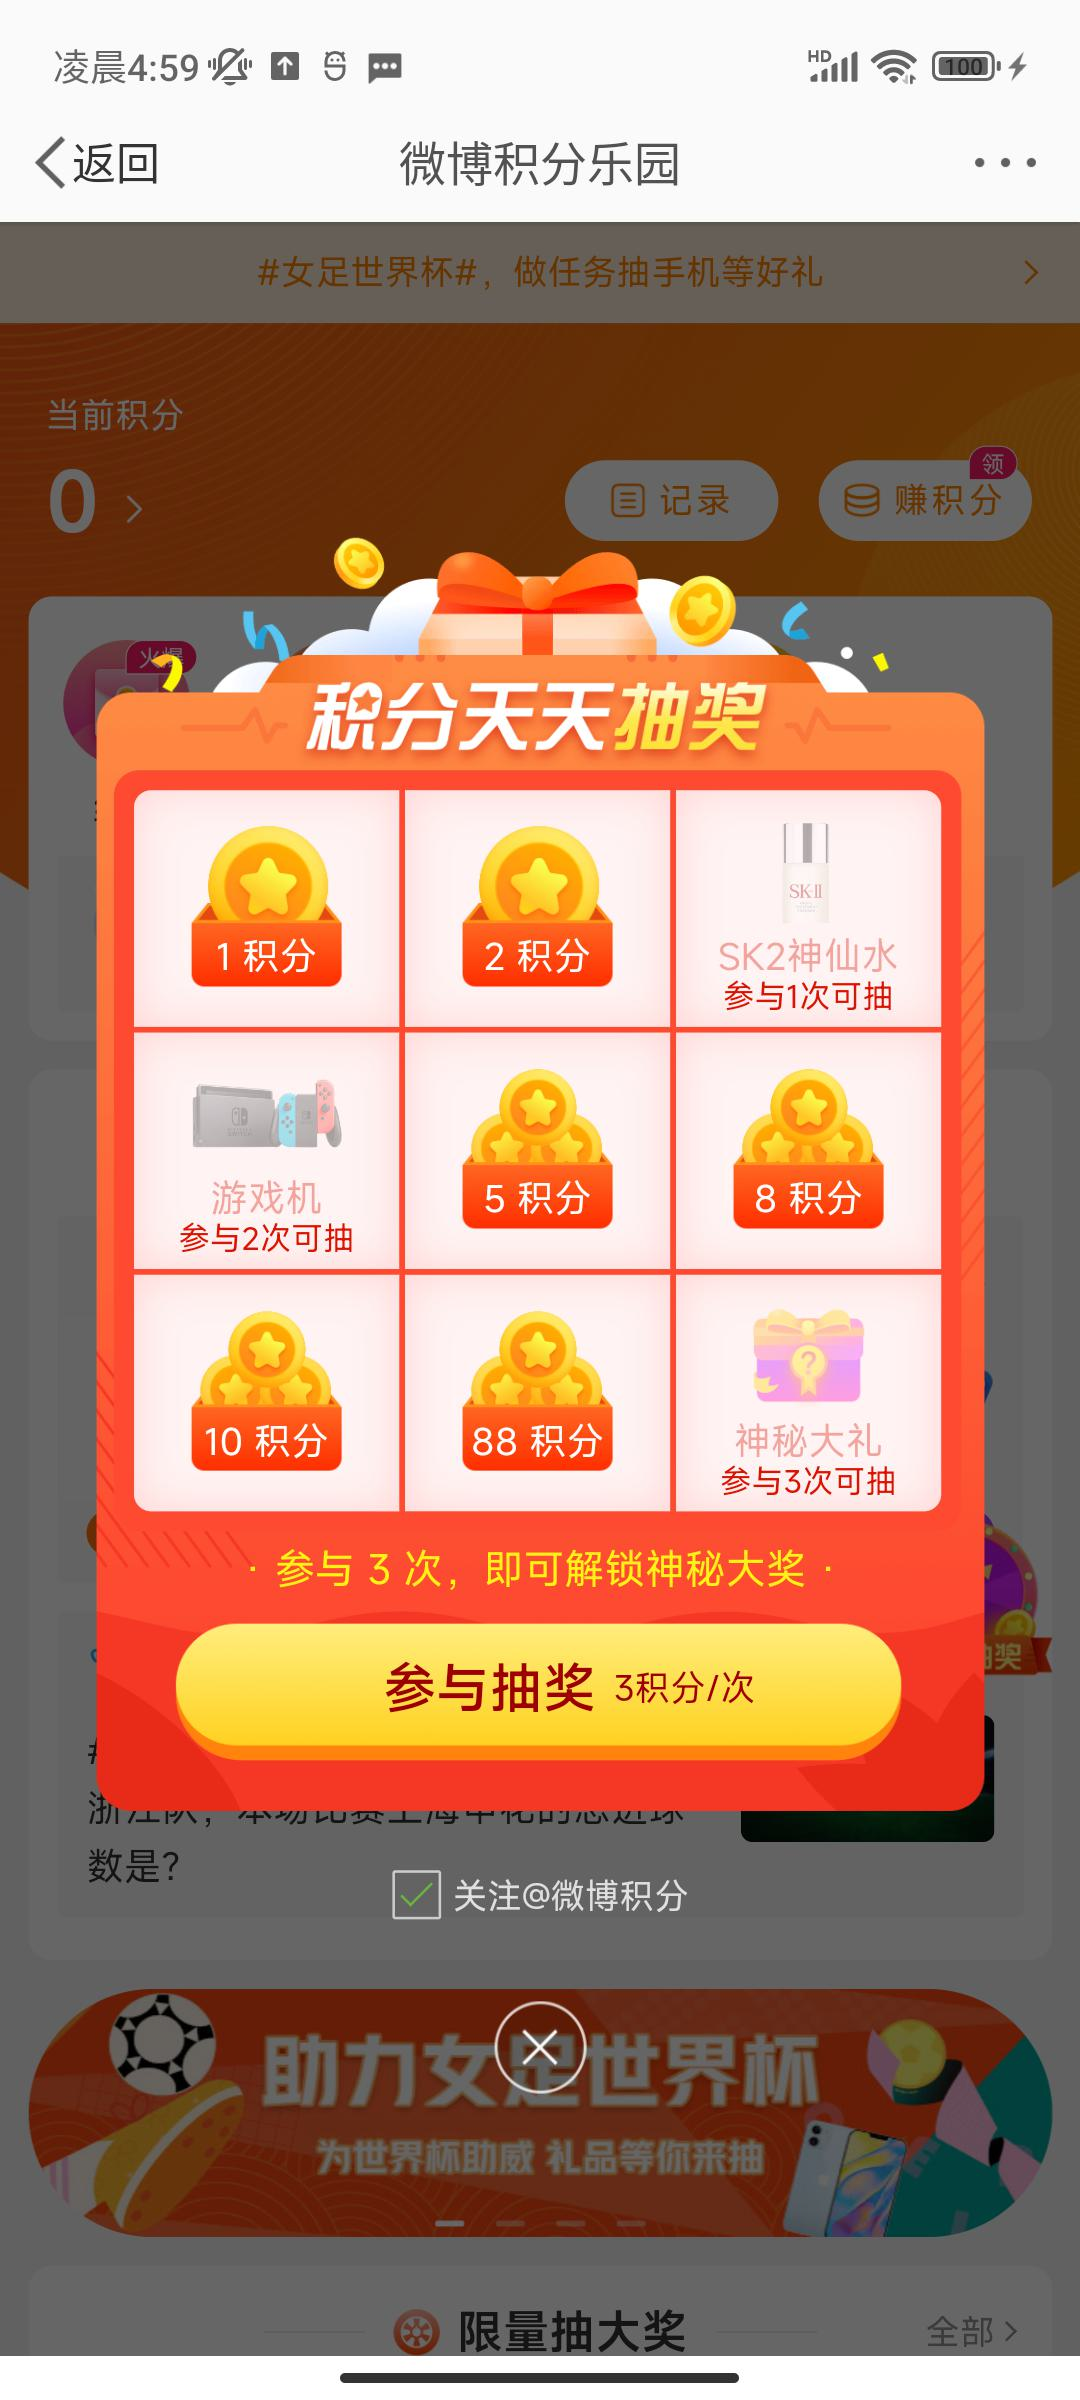ui_group: (106, 667, 961, 1792)
